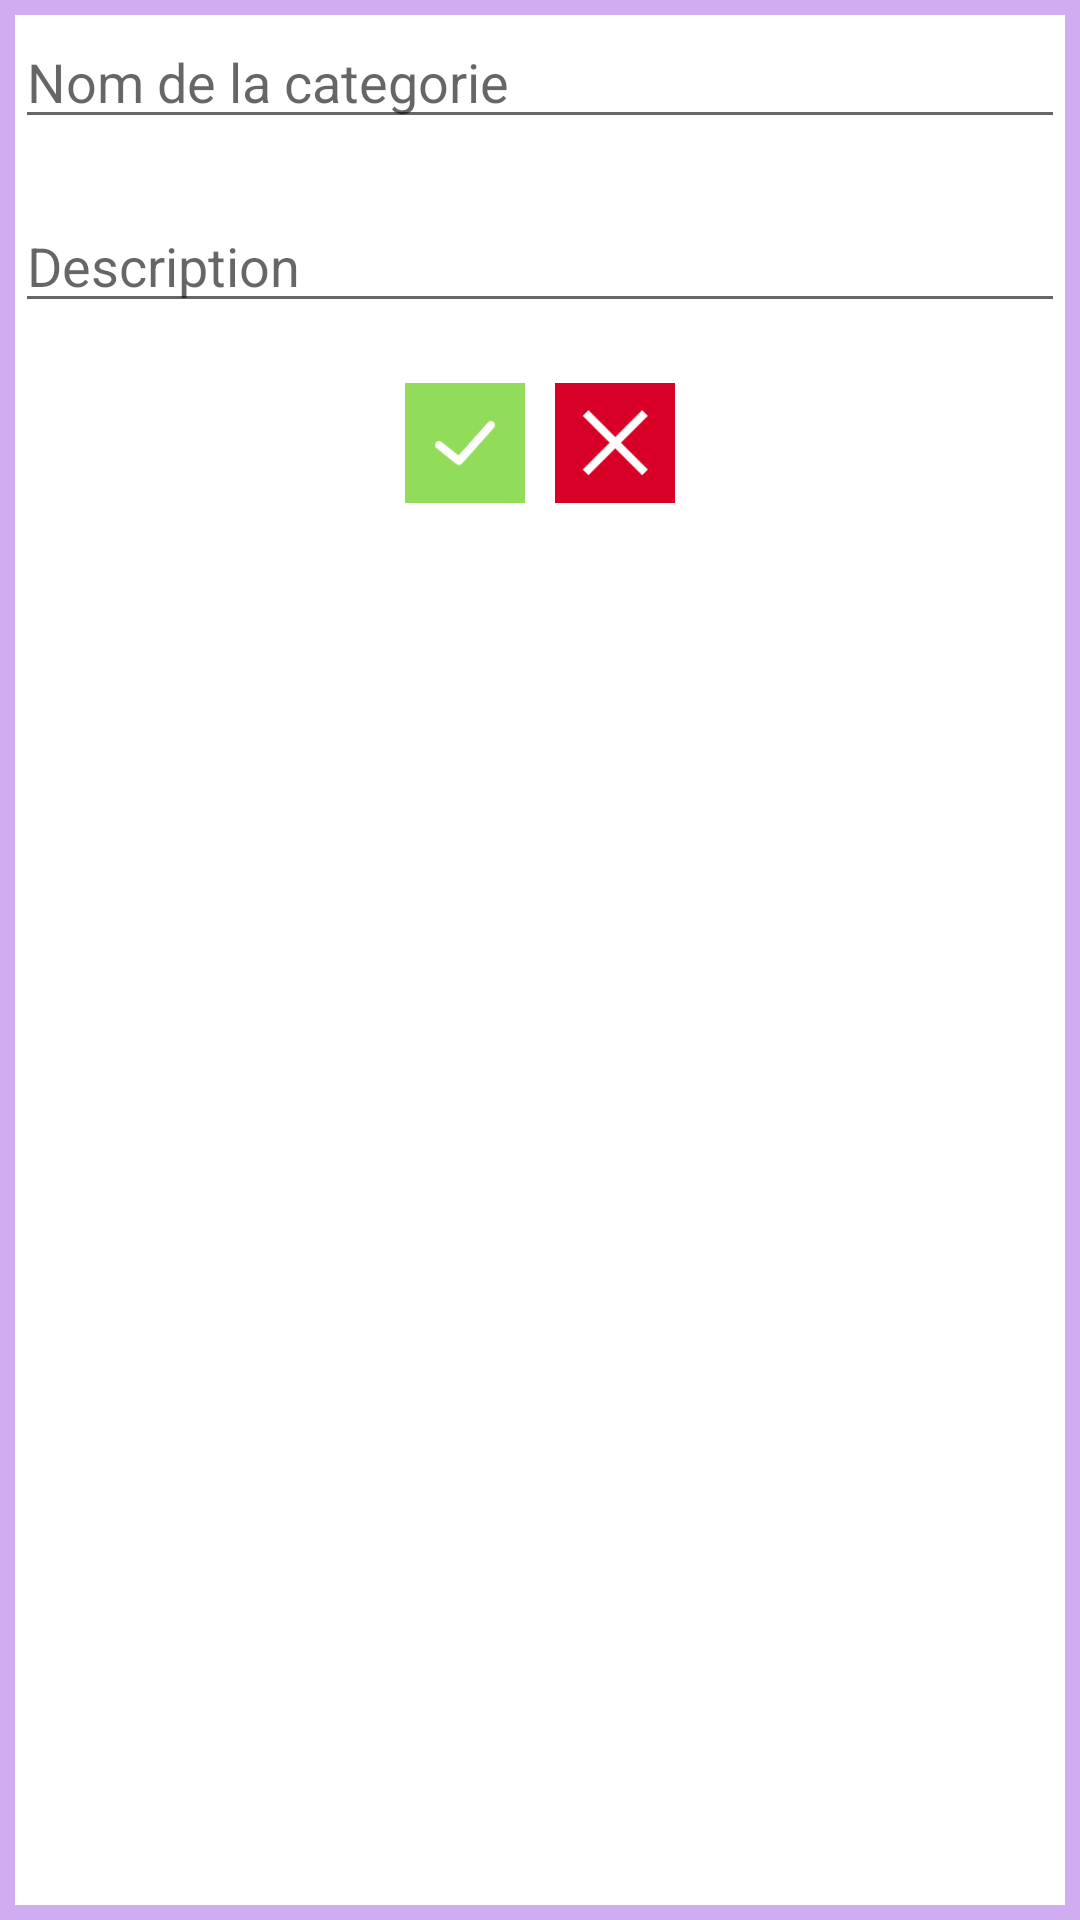

Icons on this 1080 × 1920 Android screen, each with its box as rect(x1, y1, x2, y2):
checked: rect(405, 383, 525, 503)
multiply: rect(555, 383, 675, 503)
